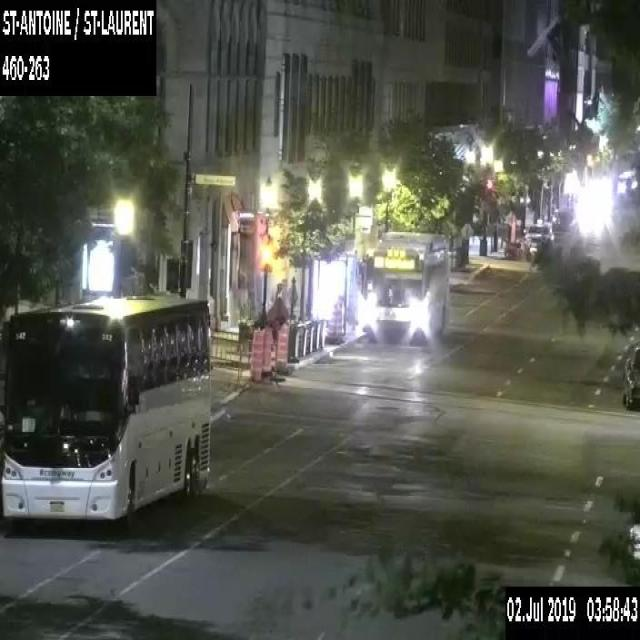bus: (0, 288, 212, 527), (370, 229, 450, 343)
construction: (265, 295, 289, 381), (248, 328, 264, 382), (276, 322, 289, 372), (331, 295, 343, 341), (261, 324, 272, 374), (287, 276, 299, 321), (324, 301, 337, 341)
vehicle: (622, 343, 639, 409), (522, 220, 552, 250), (625, 523, 639, 560), (616, 168, 636, 192)
